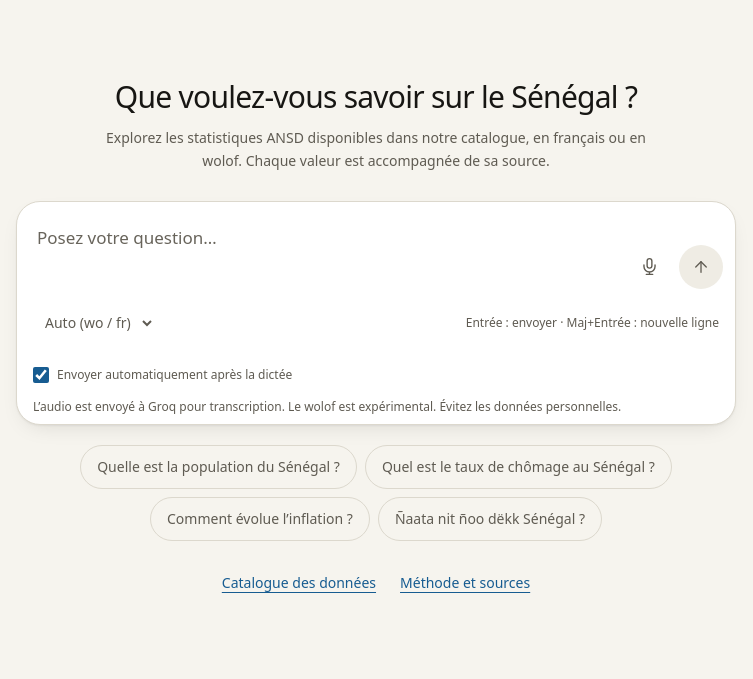
Scenario: requires review when a dictation exceeds the question limit, even with automatic sending enabled
The width and height of the screenshot is (753, 679).
Click the button named "Dicter une question": click(649, 266) top-left (627, 244), bottom-right (671, 288)
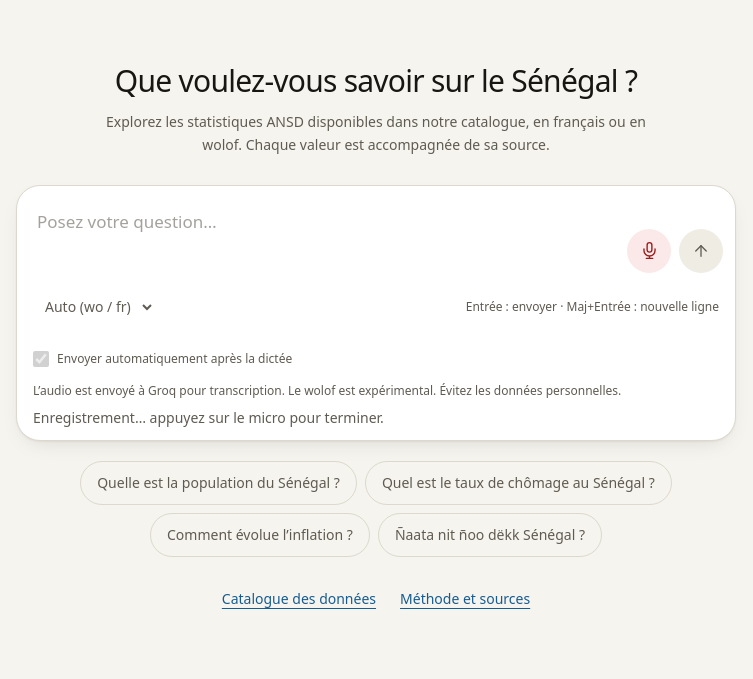
Click the button named "Terminer l’enregistrement": click(649, 250) top-left (627, 228), bottom-right (671, 272)
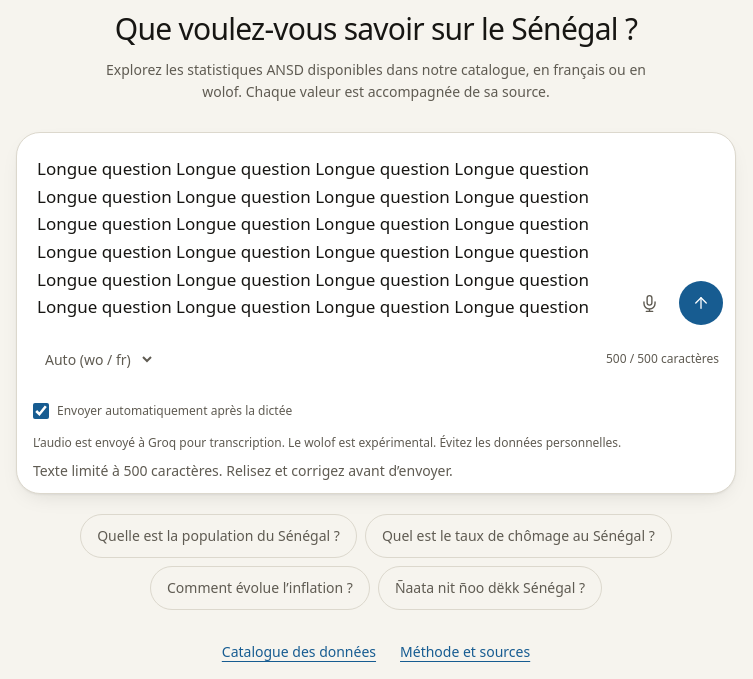
Now the text "Texte limité à 500 caractères. Relisez et corrigez avant d’envoyer." is shown, box top-left (33, 460), bottom-right (453, 480)
